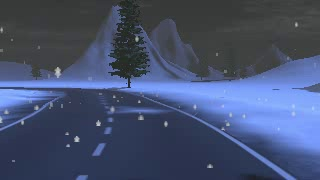Lane: (0, 86, 293, 179)
